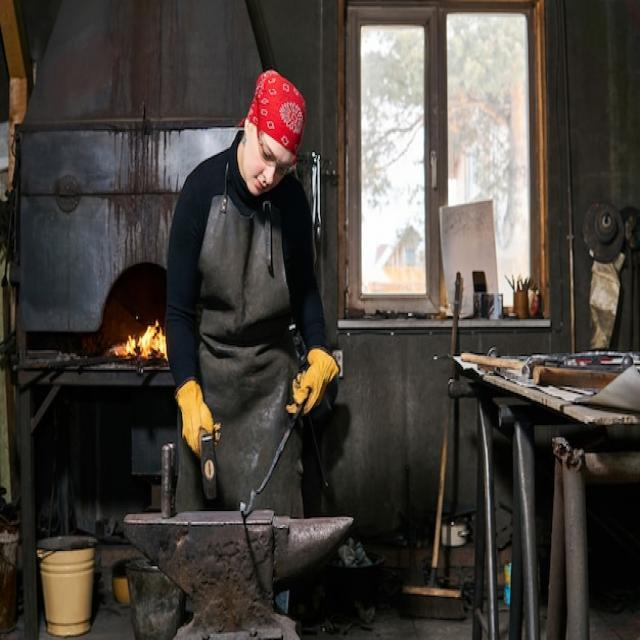hammer: (192, 418, 226, 512)
